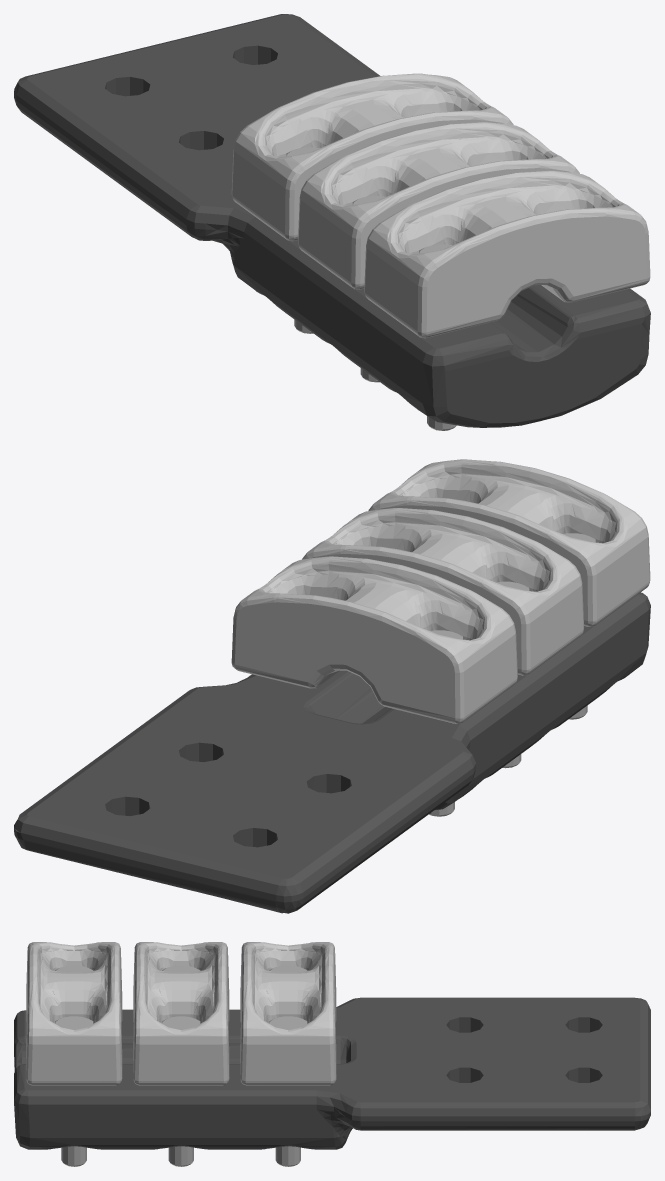
File: ensamble_conector.gltf
3 renders of one model, top to bottom at view 1: azimuth 30°, elevation 25°; view 2: azimuth 150°, elevation 25°; view 3: azimuth 270°, elevation 25°, orthographic. The views are drawn at different scales.
Parts seen in each view (by area): view 1: Rc2P4A, Pisacable M45 V2, Tornillo 3-8 2; view 2: Rc2P4A, Pisacable M45 V2, Tornillo 3-8 2; view 3: Rc2P4A, Pisacable M45 V2, Tornillo 3-8 2.
Boxes of the visible parts, bbox=[...] form: Rc2P4A: bbox=[14, 14, 650, 427]; Pisacable M45 V2: bbox=[231, 73, 650, 338]; Tornillo 3-8 2: bbox=[286, 147, 456, 430]; Rc2P4A: bbox=[14, 592, 650, 913]; Pisacable M45 V2: bbox=[231, 459, 650, 723]; Tornillo 3-8 2: bbox=[429, 533, 595, 816]; Rc2P4A: bbox=[14, 997, 650, 1149]; Pisacable M45 V2: bbox=[26, 942, 336, 1085]; Tornillo 3-8 2: bbox=[55, 965, 307, 1166].
Size of the model in its own units: 100 by 70.52 by 238.
3 materials, 2 textured.
